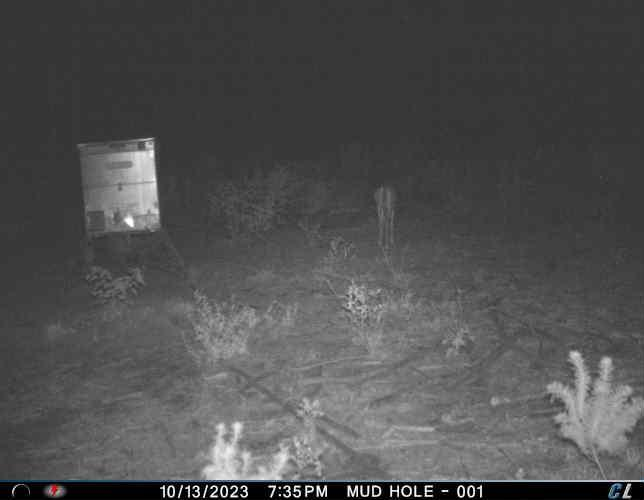Deer: (371, 182, 398, 252)
